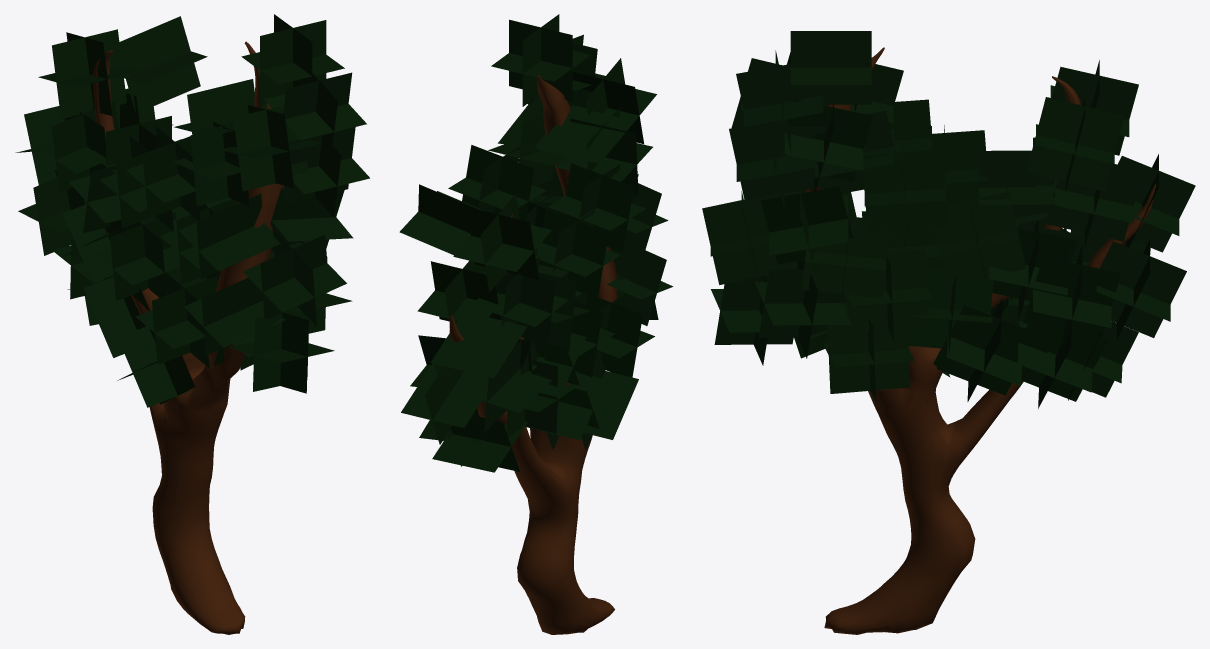
The model's file is Frangipanier_1_low.fbx.
The picture shows the model from 3 angles, left to right: view 1: azimuth 30°, elevation 25°; view 2: azimuth 150°, elevation 25°; view 3: azimuth 270°, elevation 25°; orthographic projection. The views are drawn at different scales.
Visible parts, largest first — view 1: Trunk_low, Plane042_low, Plane007_low, Plane031_low, Plane003_low, Plane016_low, Plane043_low, Plane027_low, Plane011_low, Plane006_low, Plane004_low, Plane028_low (+18 smaller); view 2: Trunk_low, Plane007_low, Plane003_low, Plane018_low, Plane019_low, Plane020_low, Plane038_low, Plane008_low, Plane022_low, Plane023_low, Plane047_low, Plane039_low (+20 smaller); view 3: Trunk_low, Plane042_low, Plane020_low, Plane032_low, Plane003_low, Plane034_low, Plane045_low, Plane026_low, Plane010_low, Plane023_low, Plane004_low, Plane040_low (+20 smaller).
Part boxes in pixels (x1,y1,x2,y2): Trunk_low: (93, 41, 284, 634); Plane042_low: (116, 16, 207, 113); Plane007_low: (38, 29, 140, 118); Plane031_low: (243, 229, 346, 326); Plane003_low: (241, 14, 344, 104); Plane016_low: (220, 105, 321, 191); Plane043_low: (227, 310, 334, 393); Plane027_low: (94, 212, 180, 300); Plane011_low: (179, 193, 280, 279); Plane006_low: (264, 72, 366, 162); Plane004_low: (282, 127, 369, 217); Plane028_low: (135, 272, 217, 368); Trunk_low: (449, 75, 617, 634); Plane007_low: (453, 193, 551, 292); Plane003_low: (491, 14, 590, 106); Plane018_low: (535, 209, 620, 298); Plane019_low: (548, 163, 645, 252); Plane020_low: (448, 145, 546, 220); Plane038_low: (471, 257, 567, 345); Plane008_low: (417, 260, 505, 326); Plane022_low: (430, 317, 526, 378); Plane023_low: (401, 363, 481, 444); Plane047_low: (432, 415, 527, 472); Plane039_low: (454, 339, 551, 432); Trunk_low: (804, 47, 1156, 634); Plane042_low: (1026, 96, 1124, 191); Plane020_low: (863, 145, 948, 237); Plane032_low: (934, 191, 1025, 285); Plane003_low: (790, 31, 871, 104); Plane034_low: (933, 298, 1037, 401); Plane045_low: (823, 318, 914, 402); Plane026_low: (1017, 312, 1108, 408); Plane010_low: (760, 186, 853, 280); Plane023_low: (1096, 240, 1186, 339); Plane004_low: (729, 119, 823, 209); Plane040_low: (1023, 244, 1121, 351).
Bounding box in the file's own units: 562 × 1800 × 1285.
